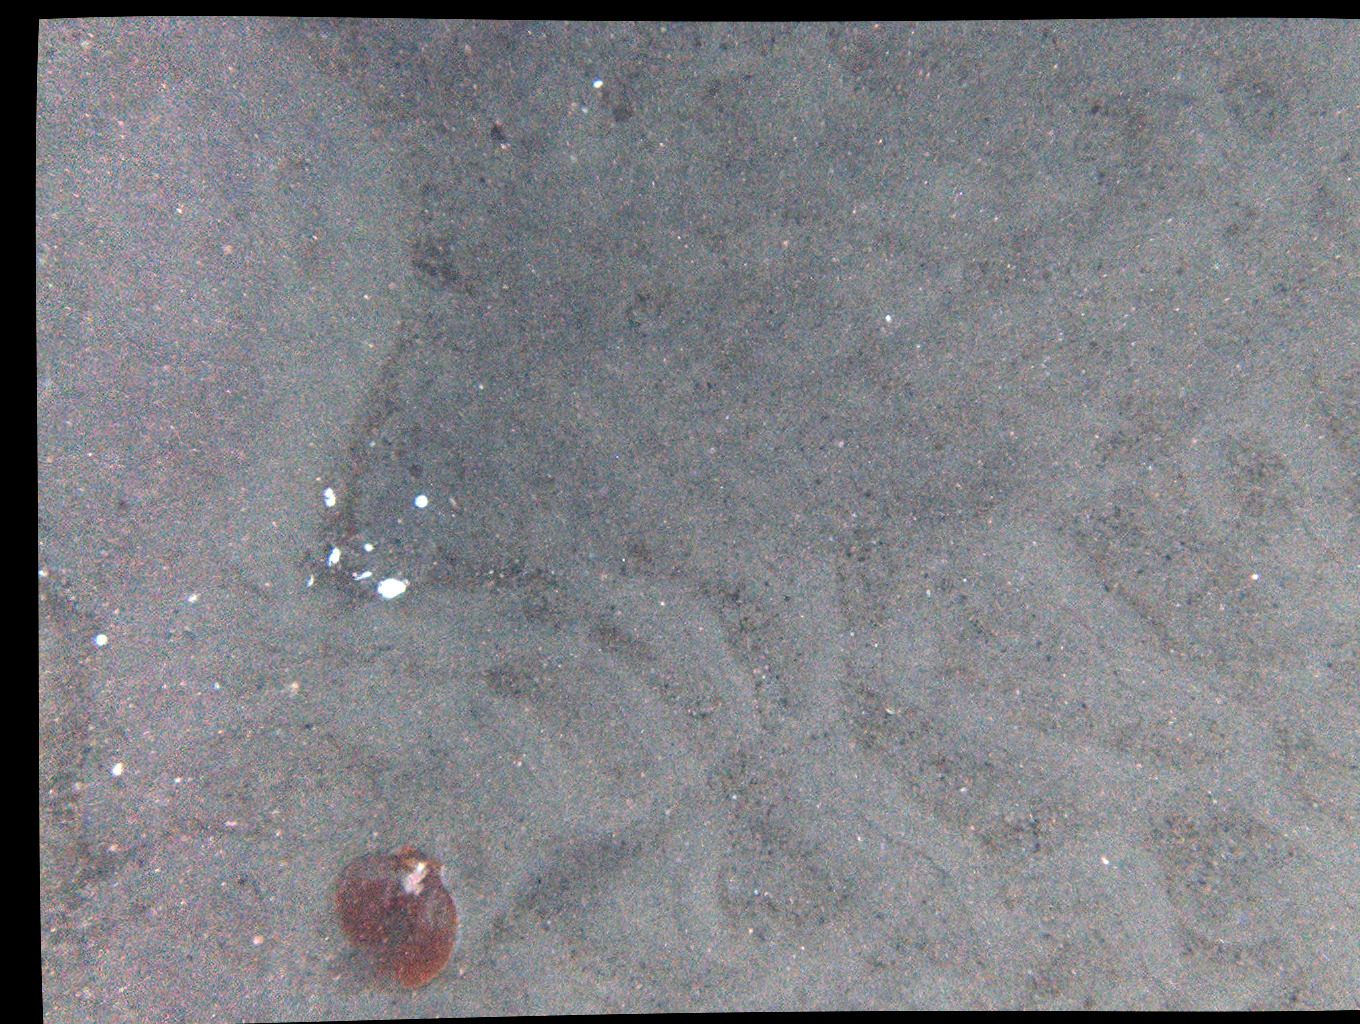Scallop: (315, 829, 466, 980)
Small shell hash: (181, 43, 194, 65)
Substrate A: (97, 70, 124, 87)
